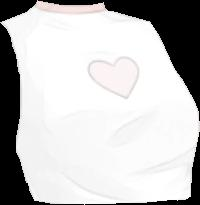Bodice: (1, 1, 198, 203)
Neckline: (35, 0, 105, 8)
Waistline: (33, 194, 193, 204)
